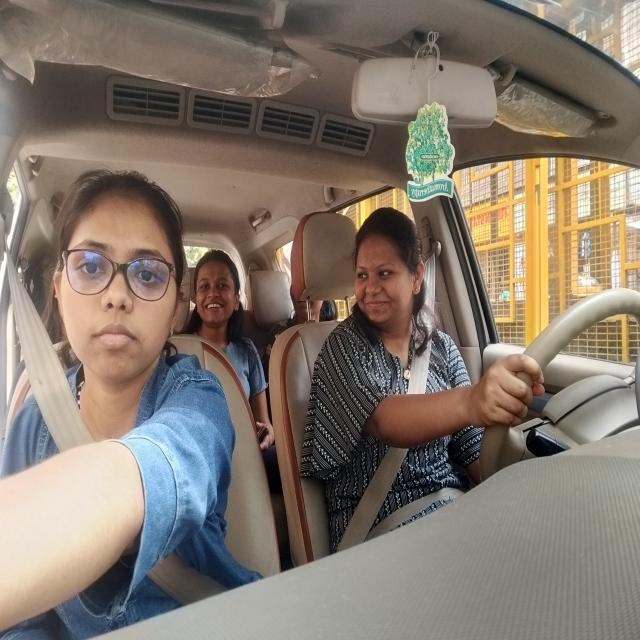LeftRight: (349, 190, 435, 379)
person: (47, 162, 196, 394), (187, 244, 246, 342)
